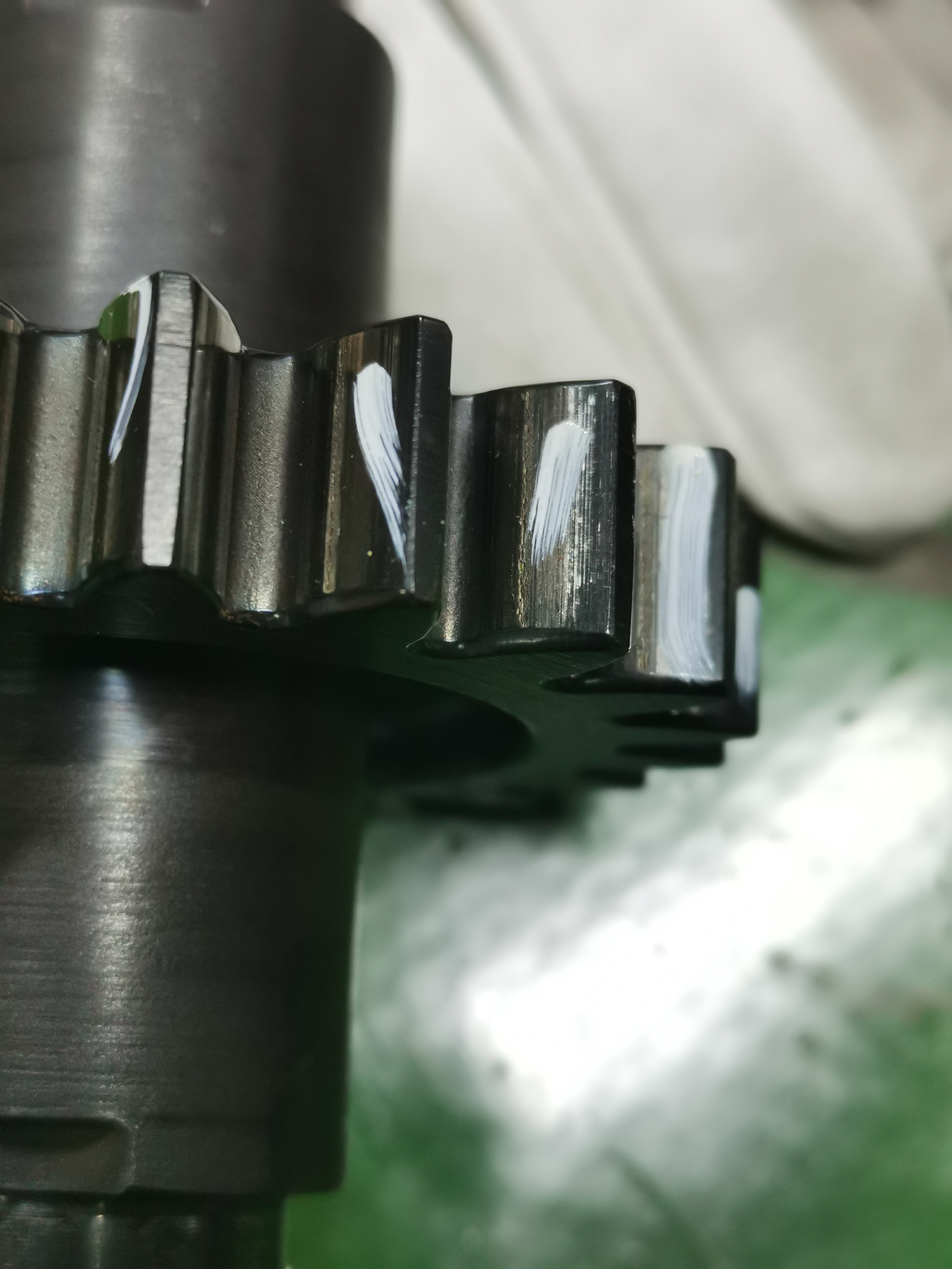Abrasion: (474, 382, 614, 639), (303, 321, 424, 597), (629, 450, 726, 677)
